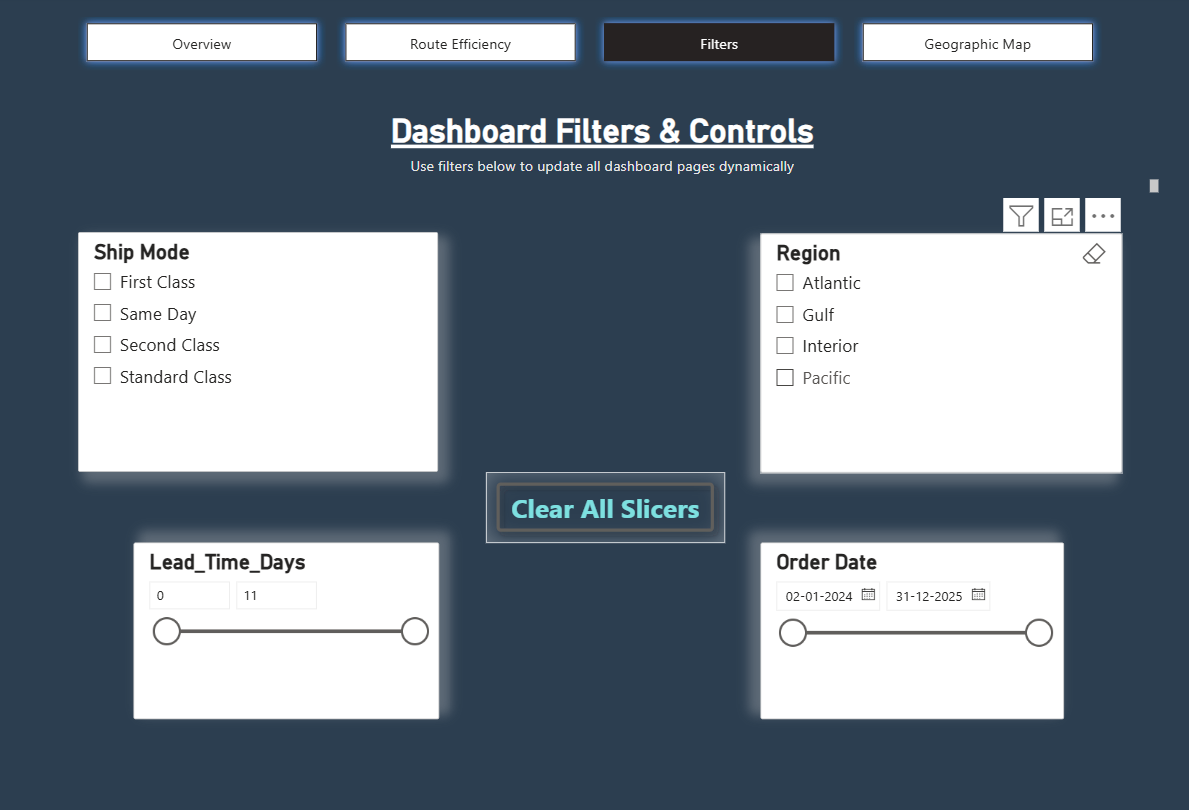

The page's visual inventory and layout, read from the dashboard file:
{"tool":"powerbi","page":{"name":"Filters","canvas":[1100,760],"ordinal":2},"visuals":[{"type":"slicer","fields":{"Values":["Nassau Candy Distributor.Ship Mode"]},"box":[75,218.6,331.2,220.8],"z":0},{"type":"slicer","fields":{"Values":["Nassau Candy Distributor.Region"]},"box":[702.8,220.1,332.4,220.1],"z":1000},{"type":"slicer","fields":{"Values":["Nassau Candy Distributor.Lead_Time_Days"]},"box":[125,504,281.2,162.5],"z":2000},{"type":"slicer","fields":{"Values":["Nassau Candy Distributor.Order Date"]},"box":[702.8,504,279.3,162.4],"z":3000},{"type":"textbox","title":"Dashboard Filters & Controls","box":[39.5,107.8,1033.8,78.9],"z":4000},{"type":"pageNavigator","box":[74.4,18.2,942.7,51.6],"z":5000},{"type":"actionButton","title":"Reset all slicers","box":[449.3,438.7,220.1,65.3],"z":6000}]}

Visuals, with their boxes in screenshot pixels (x1, y1, x2, y2), scaled from the page's 1100x760 canvas onto the 1189x810 screenshot:
slicer - Nassau Candy Distributor.Ship Mode: region(81, 233, 439, 468)
slicer - Nassau Candy Distributor.Region: region(760, 235, 1119, 469)
slicer - Nassau Candy Distributor.Lead_Time_Days: region(135, 537, 439, 710)
slicer - Nassau Candy Distributor.Order Date: region(760, 537, 1062, 710)
"Dashboard Filters & Controls" textbox: region(43, 115, 1160, 199)
pageNavigator: region(80, 19, 1099, 74)
"Reset all slicers" actionButton: region(486, 468, 724, 537)
